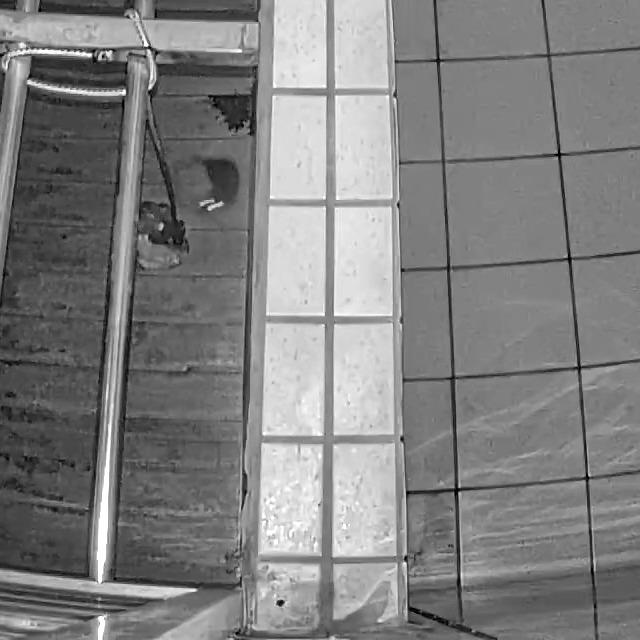rat: (174, 156, 241, 236)
